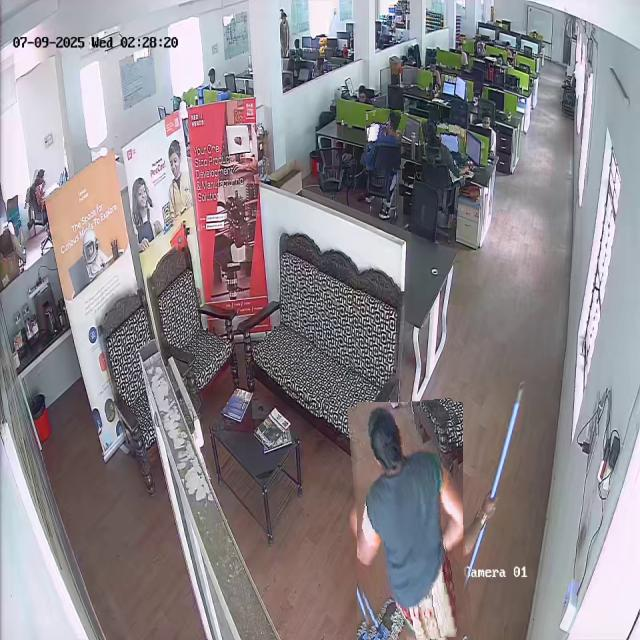person: (352, 400, 467, 640), (423, 118, 469, 190), (363, 108, 404, 172), (27, 167, 49, 212)
